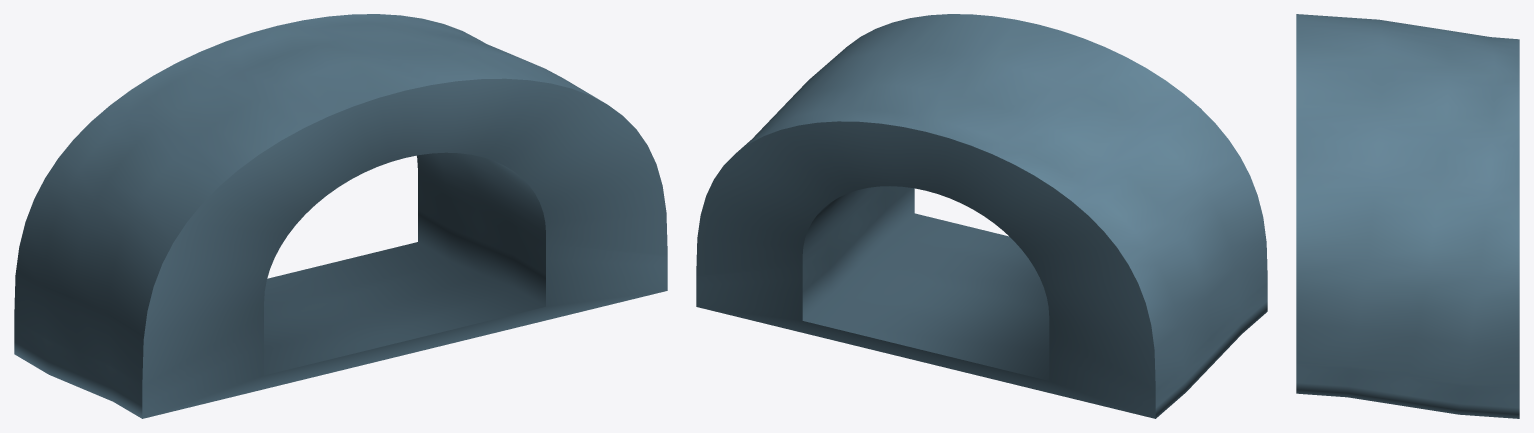
Rendered from grade_down_terrain_lod1.glb.
3 renders of one model, left to right at view 1: azimuth 30°, elevation 25°; view 2: azimuth 150°, elevation 25°; view 3: azimuth 270°, elevation 25°, orthographic. The views are drawn at different scales.
Parts seen in each view (by area): view 1: TerrainRoof.011; view 2: TerrainRoof.011; view 3: TerrainRoof.011.
Part boxes in pixels (x1,y1,x2,y2): TerrainRoof.011: (14, 14, 667, 418); TerrainRoof.011: (696, 14, 1267, 418); TerrainRoof.011: (1296, 14, 1519, 418).
Bounding box in the file's own units: 28.4 × 15.15 × 12.
